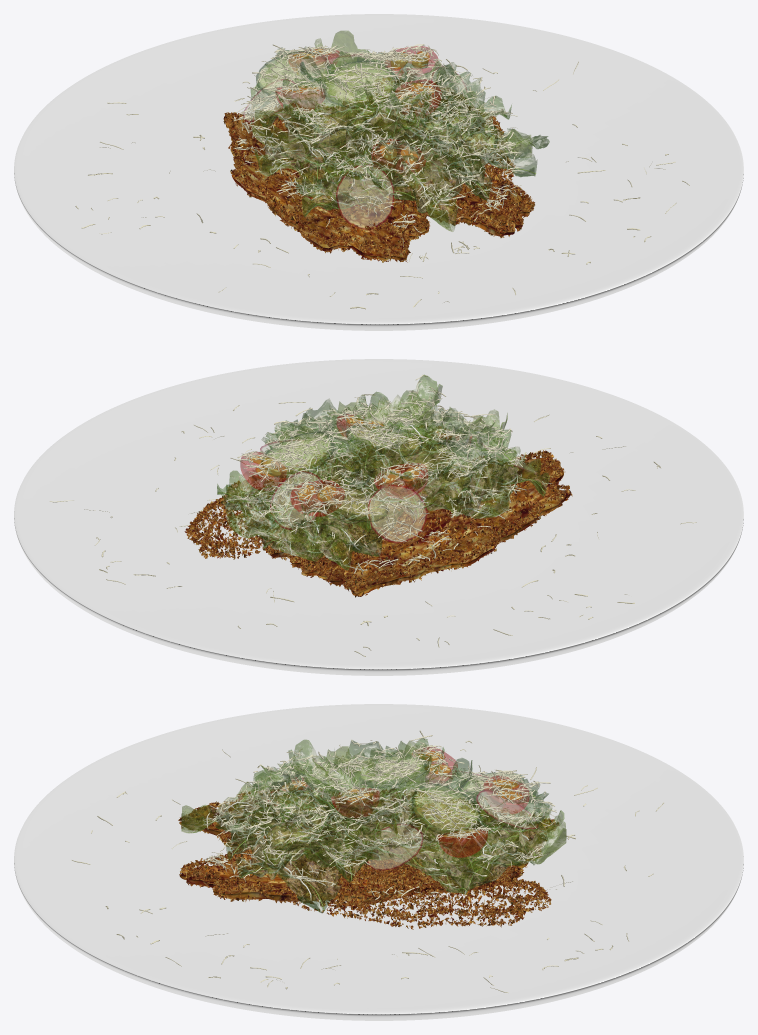
File: restaurant_dish_12MB.glb
3 renders of one model, top to bottom at view 1: azimuth 30°, elevation 25°; view 2: azimuth 150°, elevation 25°; view 3: azimuth 270°, elevation 25°, orthographic.
Visible parts, largest first — view 1: Wide shallow ceramic plate quantized mesh, 13800 individual jagged panko flakes quantized mesh, Fine irregular grated cheese strands quantized mesh, Curled irregular leaf 03 quantized mesh, Curled irregular leaf 04 quantized mesh, Curled irregular leaf 00 quantized mesh, Cucumber slice 00 quantized mesh, Curled irregular leaf 01 quantized mesh, Paper thin radish 00 quantized mesh, Curled irregular leaf 02 quantized mesh, Cherry tomato half 00 quantized mesh, Delicate fresh ribs and stems quantized mesh (+2 smaller); view 2: Wide shallow ceramic plate quantized mesh, 13800 individual jagged panko flakes quantized mesh, Fine irregular grated cheese strands quantized mesh, Curled irregular leaf 01 quantized mesh, Curled irregular leaf 03 quantized mesh, Curled irregular leaf 00 quantized mesh, Curled irregular leaf 04 quantized mesh, Cucumber slice 00 quantized mesh, Curled irregular leaf 02 quantized mesh, Paper thin radish 00 quantized mesh, Cherry tomato half 00 quantized mesh, Cream dressing adhering to leaf folds quantized mesh (+2 smaller); view 3: Wide shallow ceramic plate quantized mesh, 13800 individual jagged panko flakes quantized mesh, Fine irregular grated cheese strands quantized mesh, Curled irregular leaf 01 quantized mesh, Curled irregular leaf 04 quantized mesh, Curled irregular leaf 03 quantized mesh, Curled irregular leaf 00 quantized mesh, Curled irregular leaf 02 quantized mesh, Cucumber slice 00 quantized mesh, Cherry tomato half 00 quantized mesh, Paper thin radish 00 quantized mesh, Delicate fresh ribs and stems quantized mesh (+2 smaller).
Boxes of the visible parts, x1,y1,x2,y2 form: Wide shallow ceramic plate quantized mesh: (14,14,743,330); 13800 individual jagged panko flakes quantized mesh: (223,77,534,262); Fine irregular grated cheese strands quantized mesh: (75,44,689,309); Curled irregular leaf 03 quantized mesh: (251,31,532,231); Curled irregular leaf 04 quantized mesh: (262,46,549,213); Curled irregular leaf 00 quantized mesh: (276,55,511,217); Cucumber slice 00 quantized mesh: (256,51,497,159); Curled irregular leaf 01 quantized mesh: (251,50,489,186); Paper thin radish 00 quantized mesh: (243,54,466,229); Curled irregular leaf 02 quantized mesh: (254,53,495,185); Cherry tomato half 00 quantized mesh: (275,46,441,173); Delicate fresh ribs and stems quantized mesh: (255,57,535,231); Wide shallow ceramic plate quantized mesh: (14,359,743,675); 13800 individual jagged panko flakes quantized mesh: (184,425,572,597); Fine irregular grated cheese strands quantized mesh: (49,375,696,656); Curled irregular leaf 01 quantized mesh: (226,375,520,570); Curled irregular leaf 03 quantized mesh: (226,390,518,540); Curled irregular leaf 00 quantized mesh: (217,392,549,504); Curled irregular leaf 04 quantized mesh: (262,398,507,557); Cucumber slice 00 quantized mesh: (261,413,474,521); Curled irregular leaf 02 quantized mesh: (221,409,486,556); Paper thin radish 00 quantized mesh: (260,440,537,543); Cherry tomato half 00 quantized mesh: (240,414,471,516); Cream dressing adhering to leaf folds quantized mesh: (254,413,517,555); Wide shallow ceramic plate quantized mesh: (14,704,743,1020); 13800 individual jagged panko flakes quantized mesh: (178,788,559,929); Fine irregular grated cheese strands quantized mesh: (71,730,663,992); Curled irregular leaf 01 quantized mesh: (253,740,564,881); Curled irregular leaf 04 quantized mesh: (215,740,548,912); Curled irregular leaf 03 quantized mesh: (181,740,566,879); Curled irregular leaf 00 quantized mesh: (243,738,504,894); Curled irregular leaf 02 quantized mesh: (230,758,549,887); Cucumber slice 00 quantized mesh: (265,755,524,849); Cherry tomato half 00 quantized mesh: (268,747,529,857); Paper thin radish 00 quantized mesh: (259,771,537,870); Delicate fresh ribs and stems quantized mesh: (182,766,565,910).
Bounding box in the file's own units: 0.3015 × 0.0646 × 0.3015.
15 materials, 10 textured.
